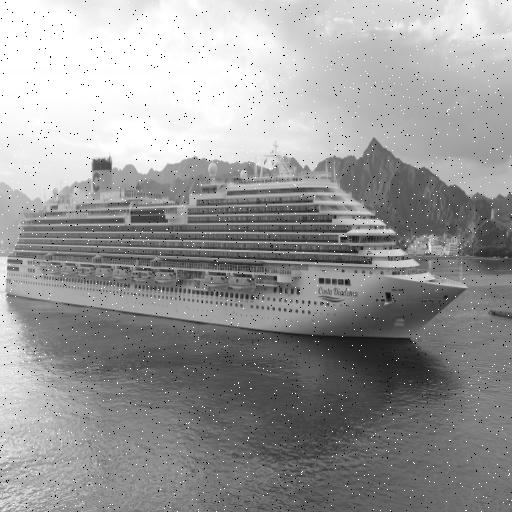cruises: (3, 152, 471, 346)
